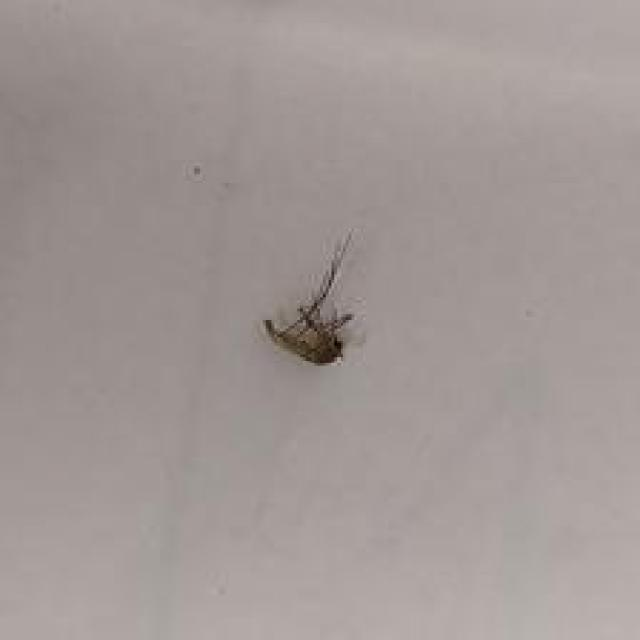Culex: (262, 227, 362, 367)
